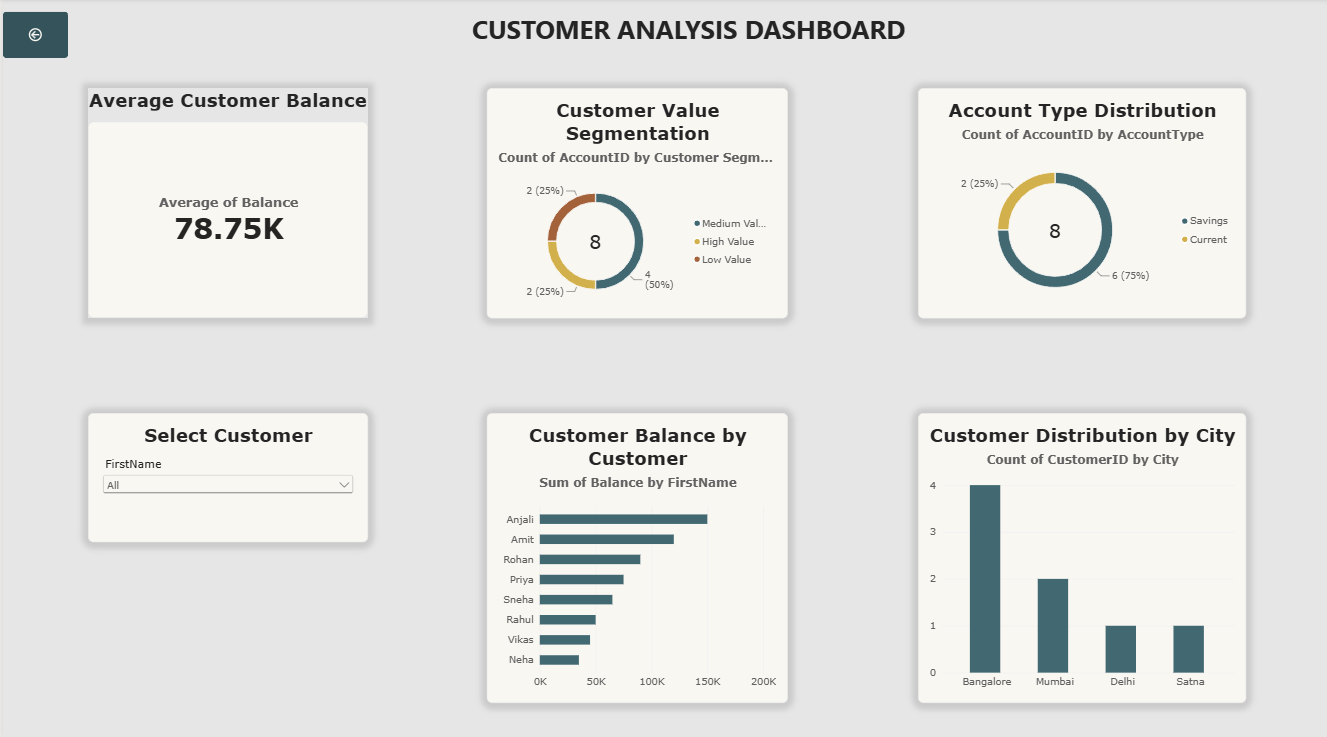

The page's visual inventory and layout, read from the dashboard file:
{"tool":"powerbi","page":{"name":"Customer Analysis","canvas":[1920,1080],"ordinal":1},"visuals":[{"type":"cardVisual","title":"Average Customer Balance","fields":{"Data":["Avg(bankmanagementsystem accounts.Balance)"]},"box":[123.5,129.7,405.5,333.4],"z":0},{"type":"clusteredBarChart","title":"Customer Balance by Customer","fields":{"Category":["bankmanagementsystem customers.FirstName"],"Y":["Sum(bankmanagementsystem accounts.Balance)"]},"box":[699.8,601,436.4,419.9],"z":1000},{"type":"donutChart","title":"Customer Value Segmentation","fields":{"Category":["bankmanagementsystem accounts.Customer Segment"],"Y":["CountNonNull(bankmanagementsystem accounts.AccountID)"]},"box":[699.8,129.7,436.4,333.4],"z":2000},{"type":"donutChart","title":"Account Type Distribution","fields":{"Category":["bankmanagementsystem accounts.AccountType"],"Y":["CountNonNull(bankmanagementsystem accounts.AccountID)"]},"box":[1325.6,129.7,475.5,333.4],"z":3000},{"type":"clusteredColumnChart","title":"Customer Distribution by City","fields":{"Category":["bankmanagementsystem customers.City"],"Y":["CountNonNull(bankmanagementsystem customers.CustomerID)"]},"box":[1325.6,601,475.5,419.9],"z":4000},{"type":"slicer","title":"Select Customer","fields":{"Values":["bankmanagementsystem customers.FirstName"]},"box":[123.5,601,405.5,187.3],"z":5000},{"type":"textbox","box":[94.7,20.6,1796.9,86.4],"z":6000}]}

Visuals, with their boxes in screenshot pixels (x1, y1, x2, y2), scaled from the page's 1920x1080 canvas onto the 1327x737 screenshot:
"Average Customer Balance" cardVisual: region(85, 89, 366, 316)
"Customer Balance by Customer" clusteredBarChart: region(484, 410, 785, 697)
"Customer Value Segmentation" donutChart: region(484, 89, 785, 316)
"Account Type Distribution" donutChart: region(916, 89, 1245, 316)
"Customer Distribution by City" clusteredColumnChart: region(916, 410, 1245, 697)
"Select Customer" slicer: region(85, 410, 366, 538)
textbox: region(65, 14, 1307, 73)
